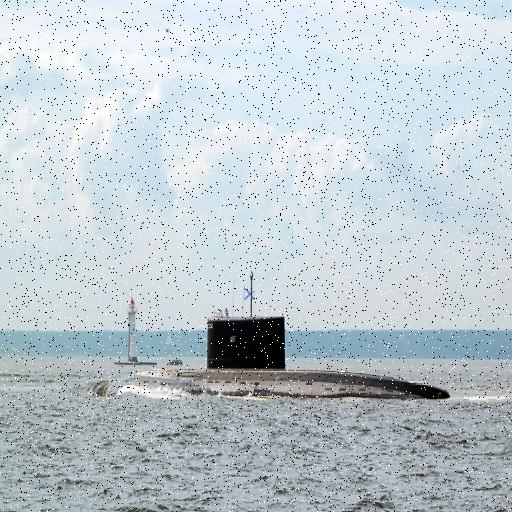submarine: (93, 317, 452, 399)
